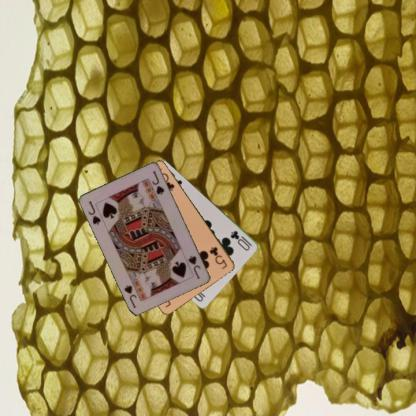10c: (228, 228, 254, 252)
5c: (207, 244, 229, 270)
Js: (86, 198, 102, 226), (186, 253, 202, 280)
